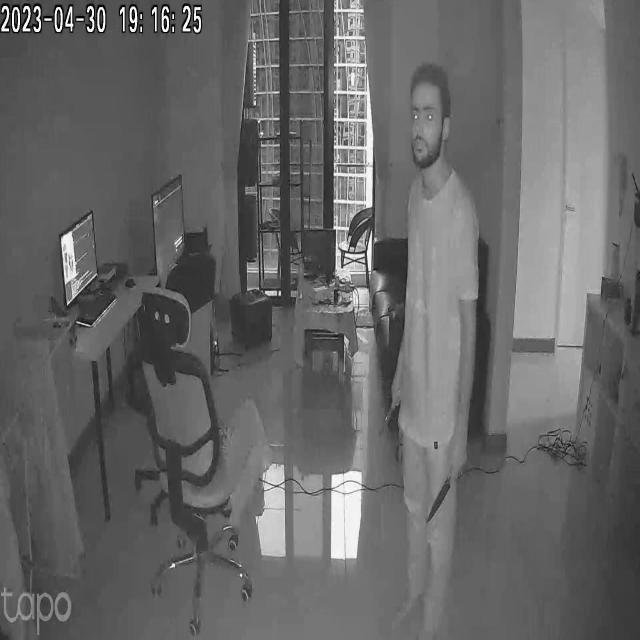Knife: (420, 472, 459, 524)
